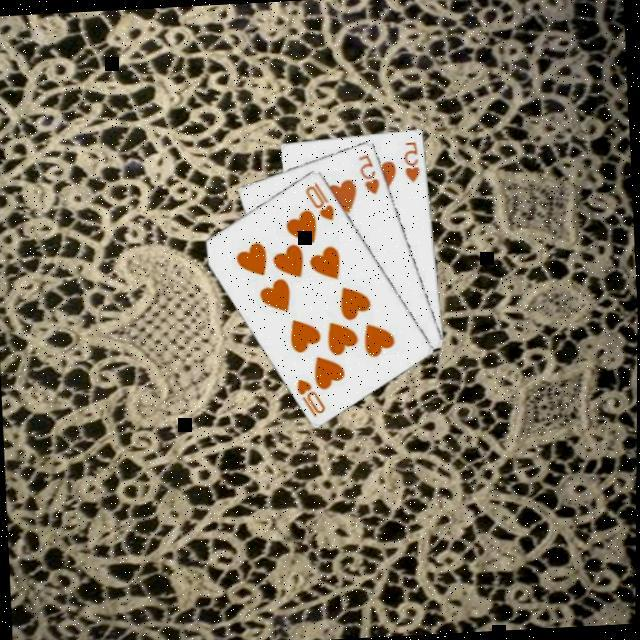10H: (300, 177, 336, 225), (292, 373, 328, 421)
5H: (353, 150, 382, 197), (398, 137, 422, 184)
